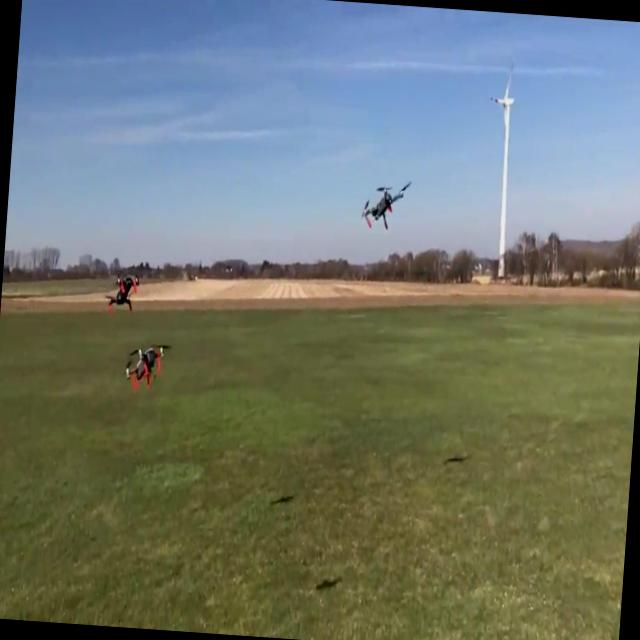drone: (357, 174, 415, 240), (121, 337, 172, 397), (104, 267, 142, 322)
